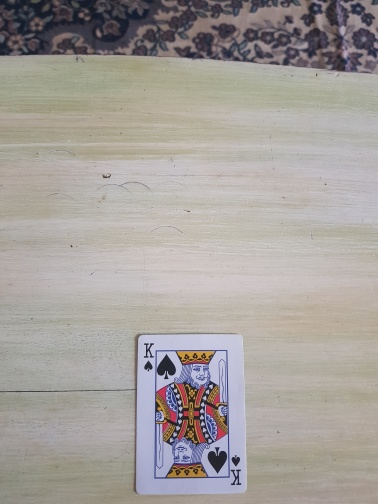king: (134, 334, 248, 496)
